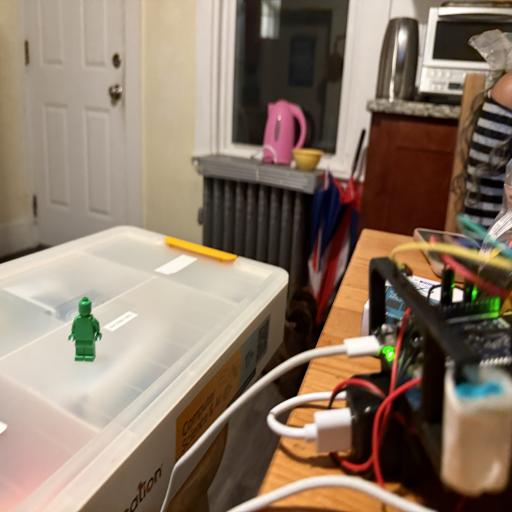Minifig: (68, 297, 102, 361)
